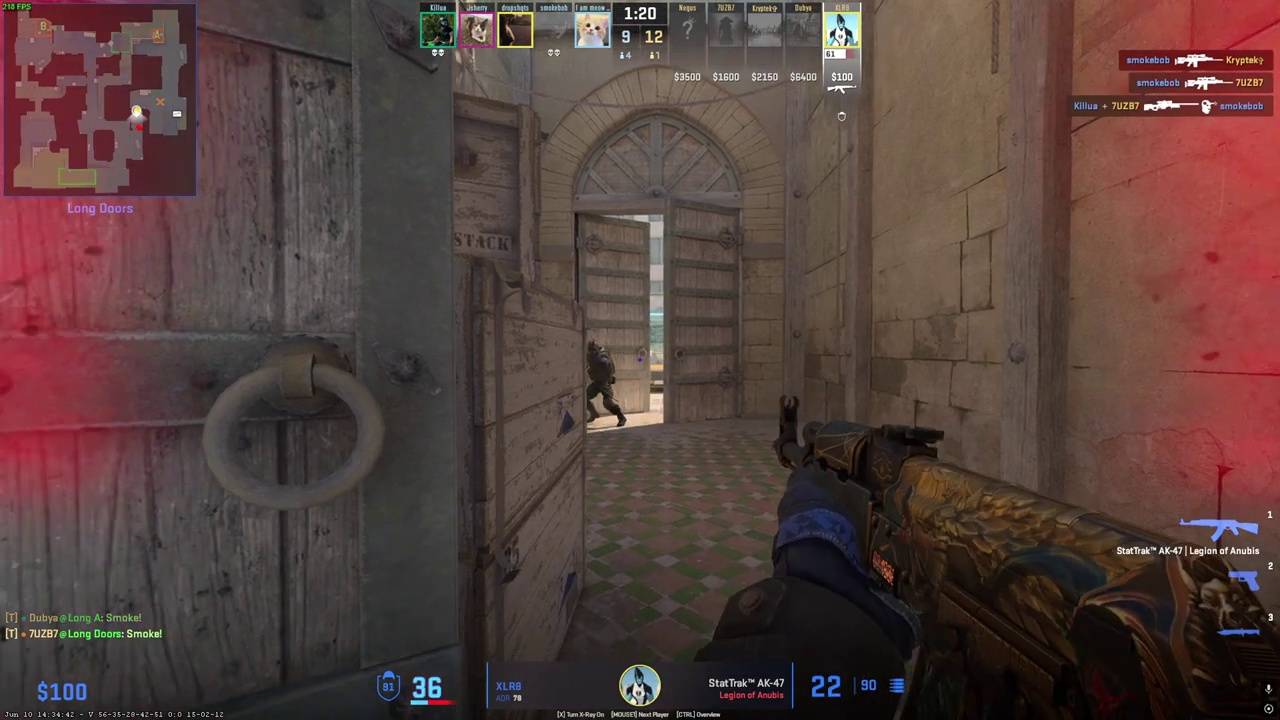CT: (582, 340, 624, 426)
